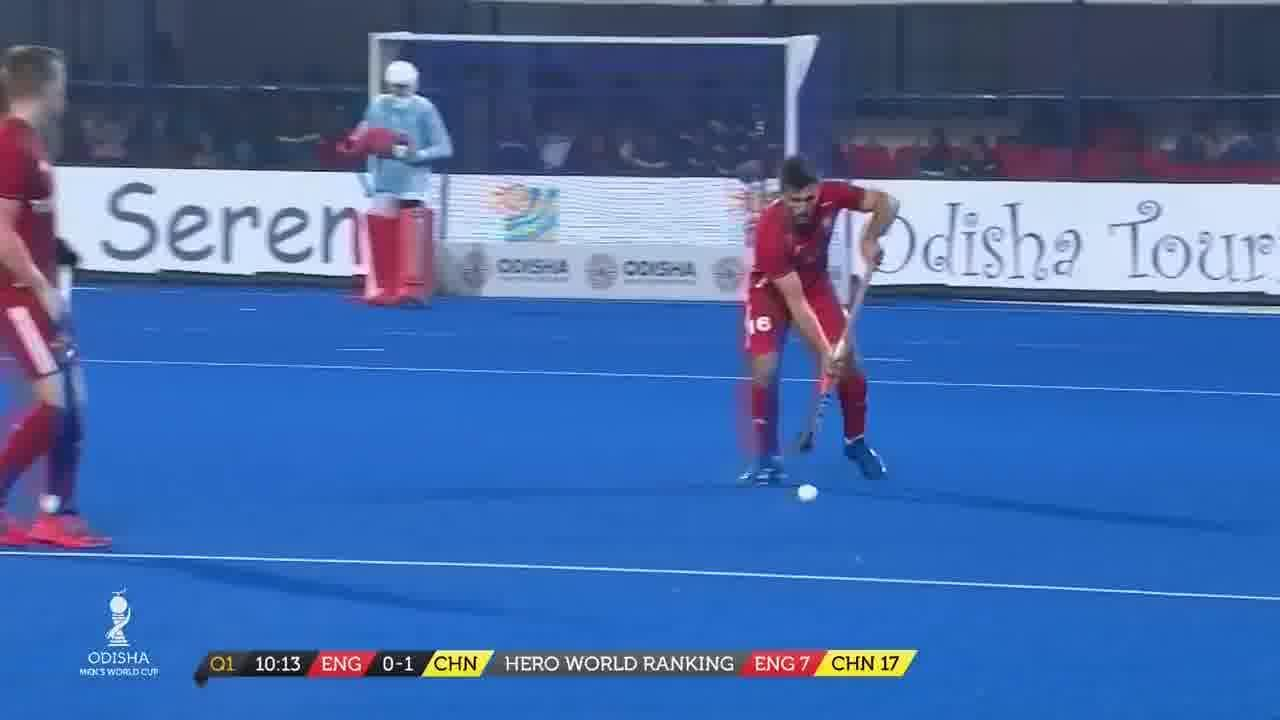ball: (792, 480, 820, 507)
